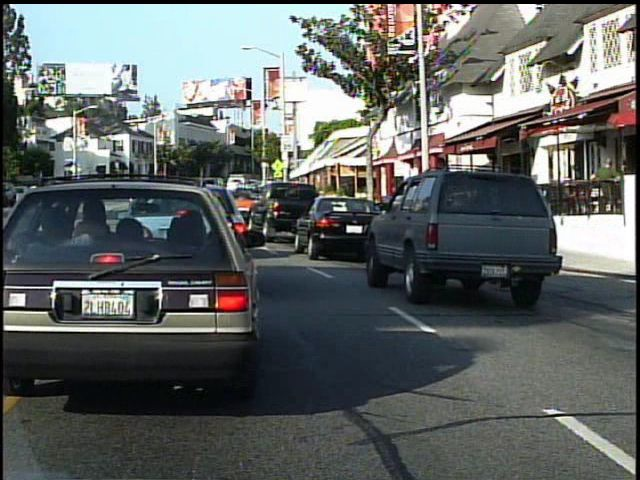person: (589, 151, 623, 234)
